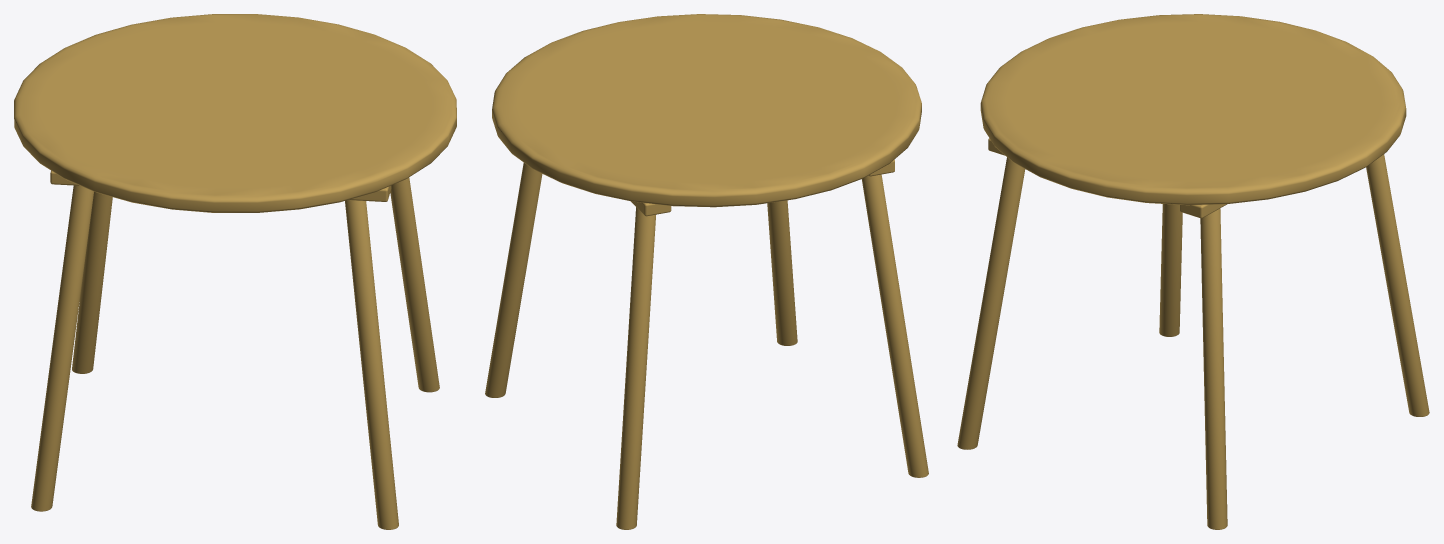
File: table_LOD0.fbx
The picture shows the model from 3 angles, left to right: view 1: azimuth 30°, elevation 25°; view 2: azimuth 150°, elevation 25°; view 3: azimuth 270°, elevation 25°; orthographic projection. The views are drawn at different scales.
Visible parts, largest first — view 1: table; view 2: table; view 3: table.
Part boxes in pixels (x1,y1,x2,y2): table: [14, 14, 456, 529]; table: [485, 14, 928, 529]; table: [957, 14, 1429, 529].
Size of the model in its own units: 271 by 206 by 269.
